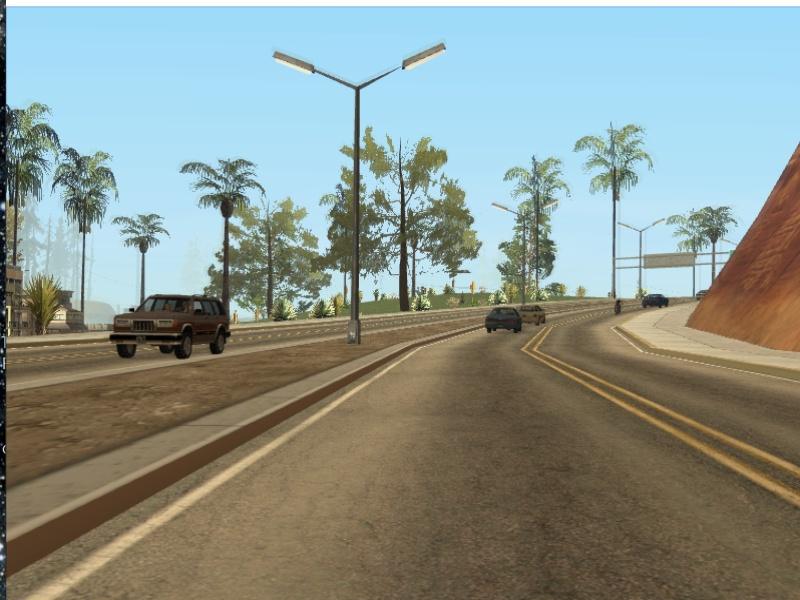pole: (348, 87, 367, 343)
vehicle: (107, 292, 231, 359), (483, 307, 523, 332), (639, 292, 669, 310), (522, 304, 546, 325), (612, 297, 624, 317)
